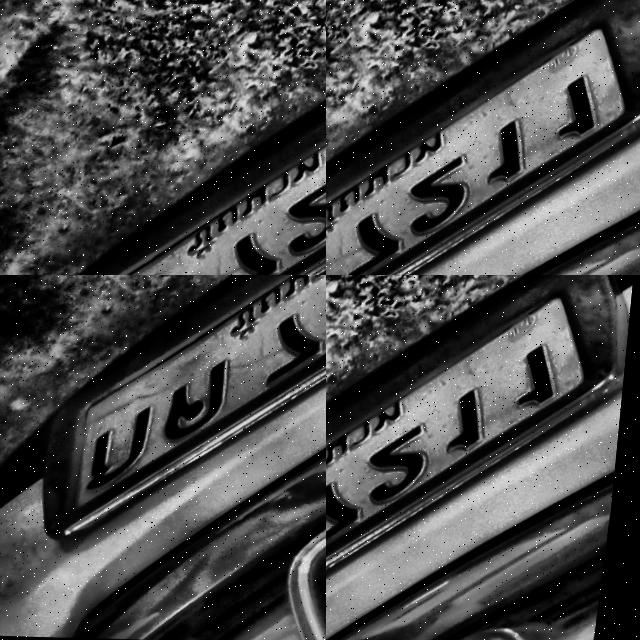license-plate: (326, 275, 640, 640)
